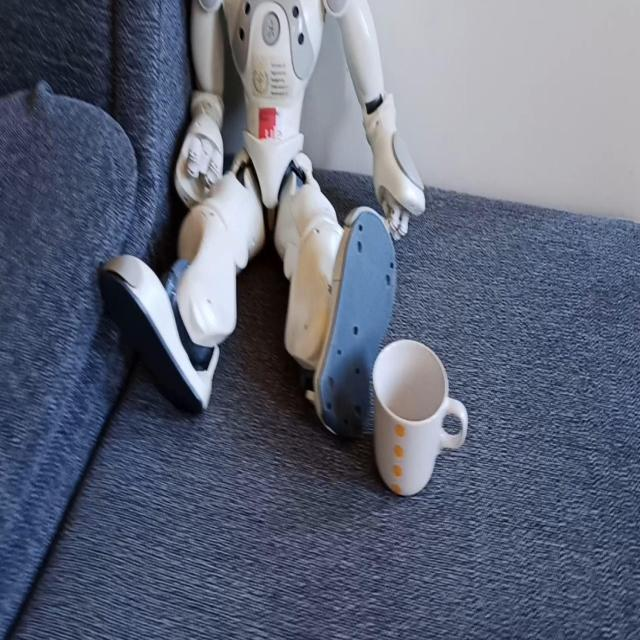cup: (368, 331, 472, 509)
